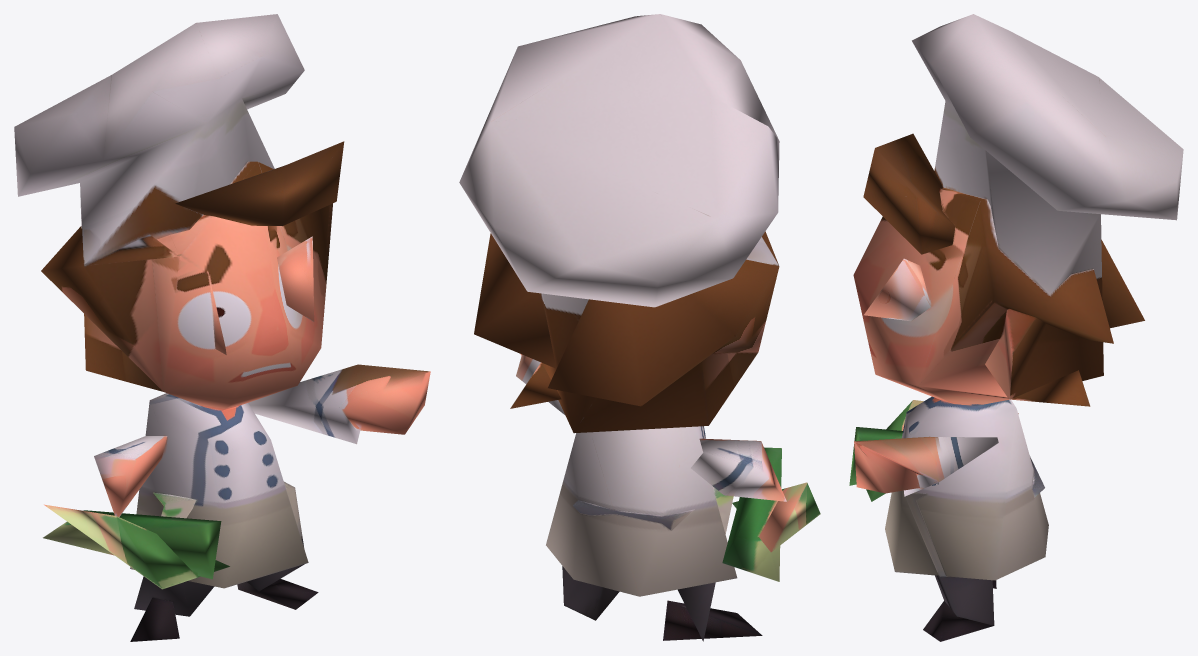
Rendered from chef3.glb.
3 renders of one model, left to right at view 1: azimuth 30°, elevation 25°; view 2: azimuth 150°, elevation 25°; view 3: azimuth 270°, elevation 25°, orthographic. The views are drawn at different scales.
Size of the model in its own units: 0.5754 by 1 by 0.5206.
1 material, 1 textured.
